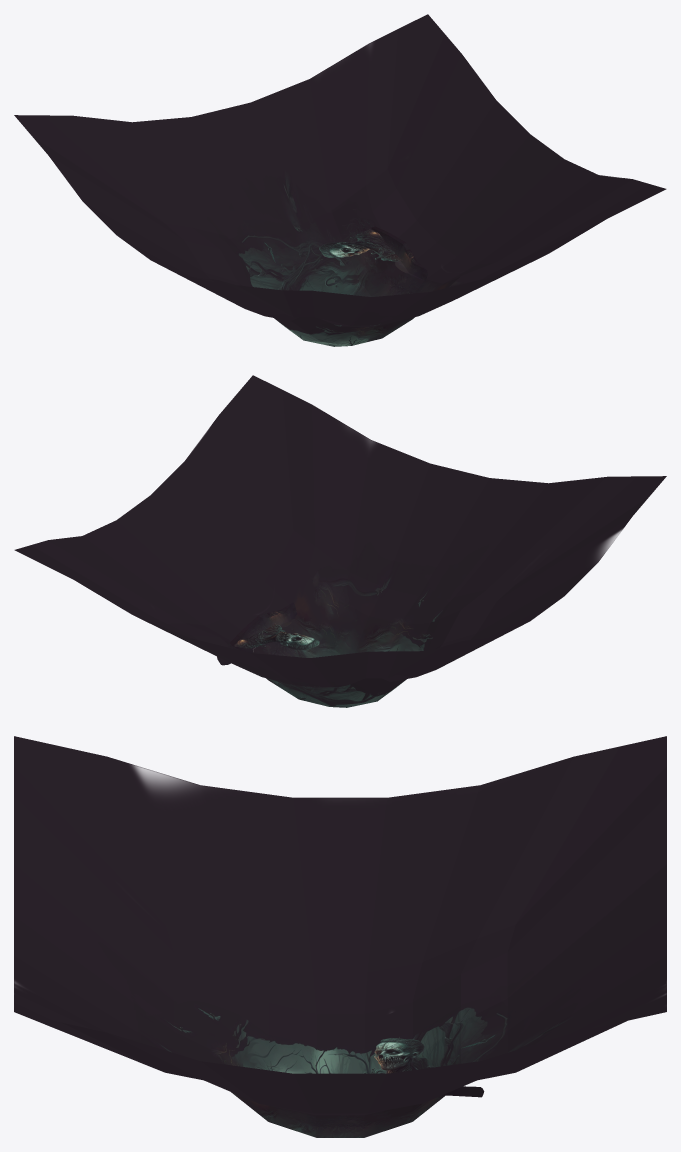
File: mainPageMerged2.glb
3 renders of one model, top to bottom at view 1: azimuth 30°, elevation 25°; view 2: azimuth 150°, elevation 25°; view 3: azimuth 270°, elevation 25°, orthographic. The views are drawn at different scales.
Visible parts, largest first — view 1: MainPageBackground; view 2: MainPageBackground; view 3: MainPageBackground.
Boxes of the visible parts, x1,y1,x2,y2 form: MainPageBackground: [14, 14, 666, 346]; MainPageBackground: [14, 375, 666, 707]; MainPageBackground: [14, 736, 666, 1137].
Size of the model in its own units: 7.09 by 3.02 by 7.09.
3 materials, 3 textured.
